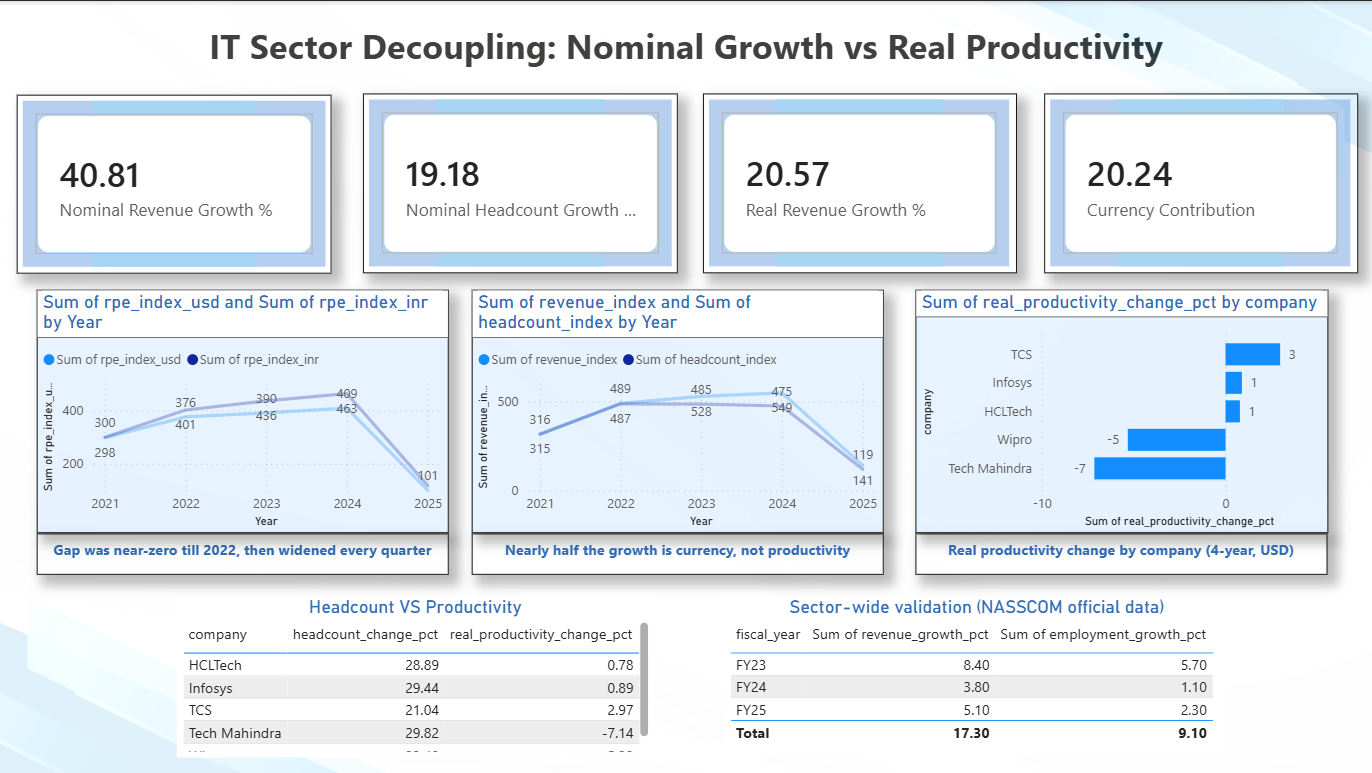

The page's visual inventory and layout, read from the dashboard file:
{"tool":"powerbi","page":{"name":"Page 1","canvas":[1280,720],"ordinal":0},"visuals":[{"type":"textbox","box":[0,15.1,1280.3,71.4],"z":0},{"type":"image","box":[0,0,1280.2,719.8],"z":1000},{"type":"cardVisual","fields":{"Data":["sector_quarterly_summary.Nominal Revenue Growth %"]},"box":[17.4,87.2,293,166.3],"z":3000},{"type":"cardVisual","fields":{"Data":["sector_quarterly_summary.Nominal Headcount Growth %"]},"box":[339.5,86,293,167.4],"z":4000},{"type":"cardVisual","fields":{"Data":["sector_quarterly_usd.Real Revenue Growth %"]},"box":[655.8,86,291.9,167.4],"z":5000},{"type":"cardVisual","fields":{"Data":["sector_quarterly_summary.Currency Contribution"]},"box":[973.3,86,291.9,167.4],"z":6000},{"type":"lineChart","fields":{"Category":["sector_quarterly_summary.quarter_end_date.Variation.Date Hierarchy.Year","sector_quarterly_summary.quarter_end_date.Variation.Date Hierarchy.Quarter","sector_quarterly_summary.quarter_end_date.Variation.Date Hierarchy.Month","sector_quarterly_summary.quarter_end_date.Variation.Date Hierarchy.Day"],"Y":["Sum(sector_quarterly_summary.revenue_index)","Sum(sector_quarterly_summary.headcount_index)"]},"box":[440.3,268.5,383.1,226.5],"z":9000},{"type":"textbox","box":[35.6,495.1,383.1,38.2],"z":10000},{"type":"lineChart","fields":{"Category":["sector_quarterly_usd.quarter_end_date.Variation.Date Hierarchy.Year","sector_quarterly_usd.quarter_end_date.Variation.Date Hierarchy.Quarter","sector_quarterly_usd.quarter_end_date.Variation.Date Hierarchy.Month","sector_quarterly_usd.quarter_end_date.Variation.Date Hierarchy.Day","sector_quarterly_summary.quarter_end_date.Variation.Date Hierarchy.Year","sector_quarterly_summary.quarter_end_date.Variation.Date Hierarchy.Quarter","sector_quarterly_summary.quarter_end_date.Variation.Date Hierarchy.Month","sector_quarterly_summary.quarter_end_date.Variation.Date Hierarchy.Day"],"Y":["Sum(sector_quarterly_usd.rpe_index_usd)","Sum(sector_quarterly_summary.rpe_index_inr)"]},"box":[35.6,268.5,383.1,226.5],"z":11000},{"type":"textbox","box":[440.3,495.1,383.1,38.2],"z":12000},{"type":"tableEx","title":"Headcount VS Productivity ","fields":{"Values":["company_productivity_summary.company","company_productivity_summary.headcount_change_pct","company_productivity_summary.real_productivity_change_pct"]},"box":[166.7,553.6,444.1,150.2],"z":12001},{"type":"tableEx","title":"Sector-wide validation (NASSCOM official data)","fields":{"Values":["nasscom_comparison.fiscal_year","Sum(nasscom_comparison.revenue_growth_pct)","Sum(nasscom_comparison.employment_growth_pct)"]},"box":[675.8,553.6,469.6,150.2],"z":12002},{"type":"barChart","fields":{"Category":["company_productivity_summary.company"],"Y":["Sum(company_productivity_summary.real_productivity_change_pct)"]},"box":[853.9,268.5,384.3,226.5],"z":12003},{"type":"textbox","box":[853.9,495.1,383.1,38.2],"z":12004}]}

Visuals, with their boxes in screenshot pixels (x1, y1, x2, y2), scaled from the page's 1280x720 canvas onto the 1372x773 screenshot:
textbox: select_region(0, 16, 1371, 93)
image: select_region(0, 0, 1371, 772)
cardVisual - sector_quarterly_summary.Nominal Revenue Growth %: select_region(19, 94, 333, 272)
cardVisual - sector_quarterly_summary.Nominal Headcount Growth %: select_region(364, 92, 678, 272)
cardVisual - sector_quarterly_usd.Real Revenue Growth %: select_region(703, 92, 1016, 272)
cardVisual - sector_quarterly_summary.Currency Contribution: select_region(1043, 92, 1356, 272)
lineChart - sector_quarterly_summary.quarter_end_date.Variation.Date Hierarchy.Year x sector_quarterly_summary.quarter_end_date.Variation.Date Hierarchy.Quarter: select_region(472, 288, 883, 531)
textbox: select_region(38, 532, 449, 573)
lineChart - sector_quarterly_usd.quarter_end_date.Variation.Date Hierarchy.Year x sector_quarterly_usd.quarter_end_date.Variation.Date Hierarchy.Quarter: select_region(38, 288, 449, 531)
textbox: select_region(472, 532, 883, 573)
"Headcount VS Productivity " tableEx: select_region(179, 594, 655, 756)
"Sector-wide validation (NASSCOM official data)" tableEx: select_region(724, 594, 1228, 756)
barChart - company_productivity_summary.company x Sum(company_productivity_summary.real_productivity_change_pct): select_region(915, 288, 1327, 531)
textbox: select_region(915, 532, 1326, 573)
